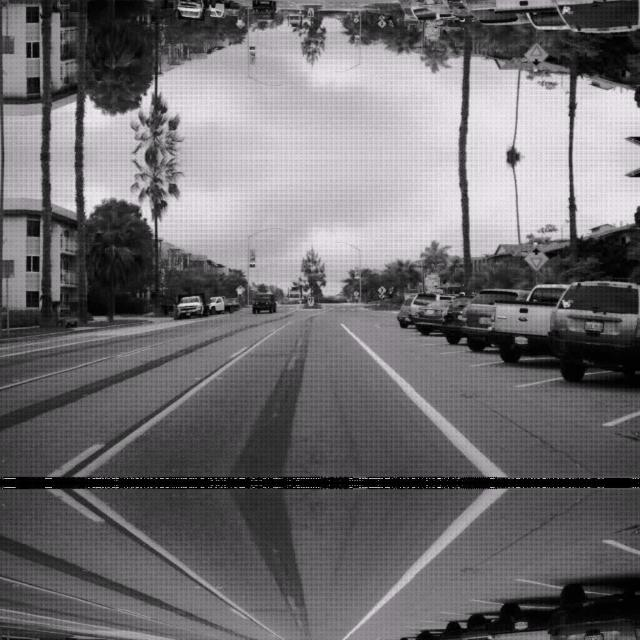pedestrianCrossing: (376, 284, 386, 294), (376, 18, 386, 28)
